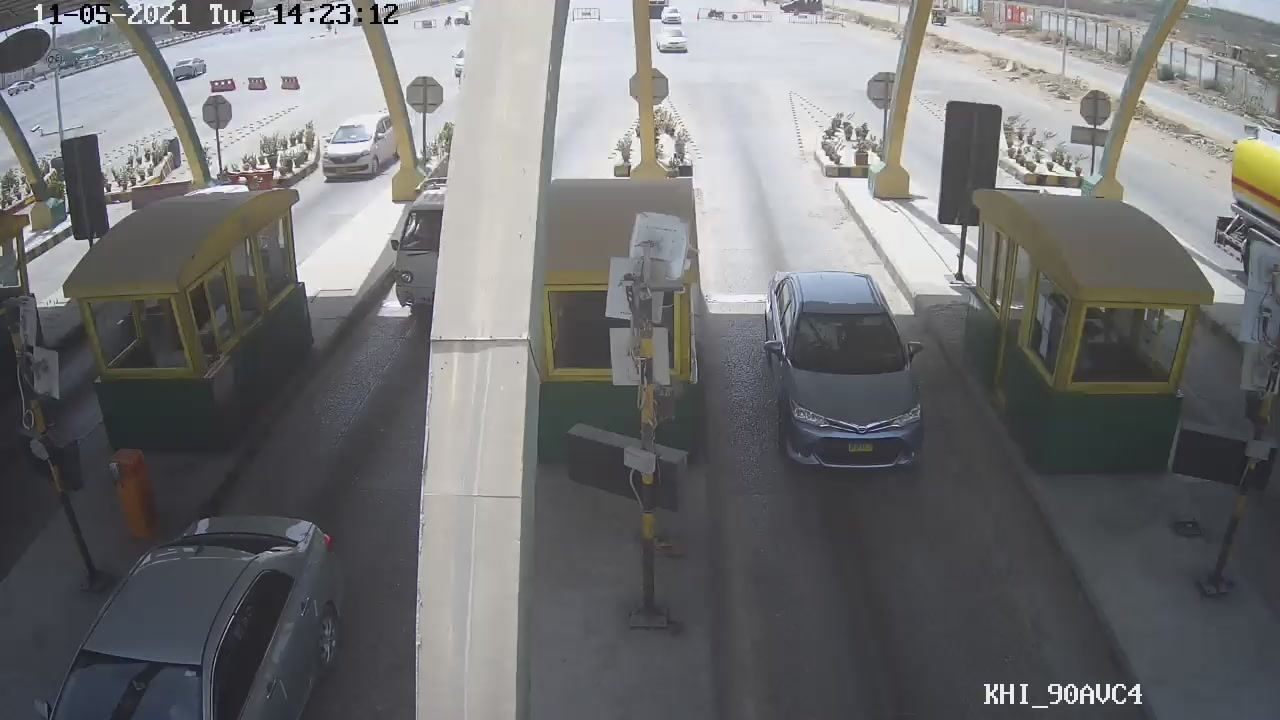F1: (754, 267, 930, 471)
